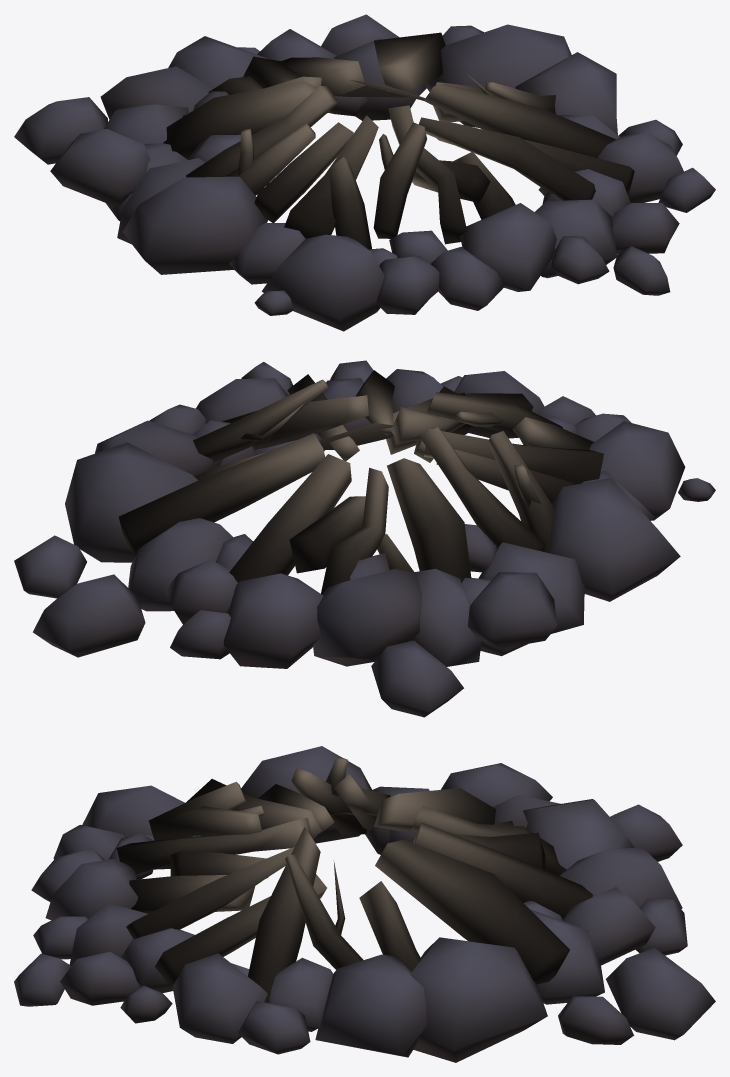
File: mt-fireplace-dead.fbx
The picture shows the model from 3 angles, top to bottom: view 1: azimuth 30°, elevation 25°; view 2: azimuth 150°, elevation 25°; view 3: azimuth 270°, elevation 25°; orthographic projection. The views are drawn at different scales.
Parts seen in each view (by area): view 1: fireplace; view 2: fireplace; view 3: fireplace.
Boxes of the visible parts, bbox=[...] form: fireplace: bbox=[14, 14, 715, 331]; fireplace: bbox=[14, 360, 715, 717]; fireplace: bbox=[14, 746, 715, 1062].
Size of the model in its own units: 504 by 138 by 561.
1 material, 1 textured.
